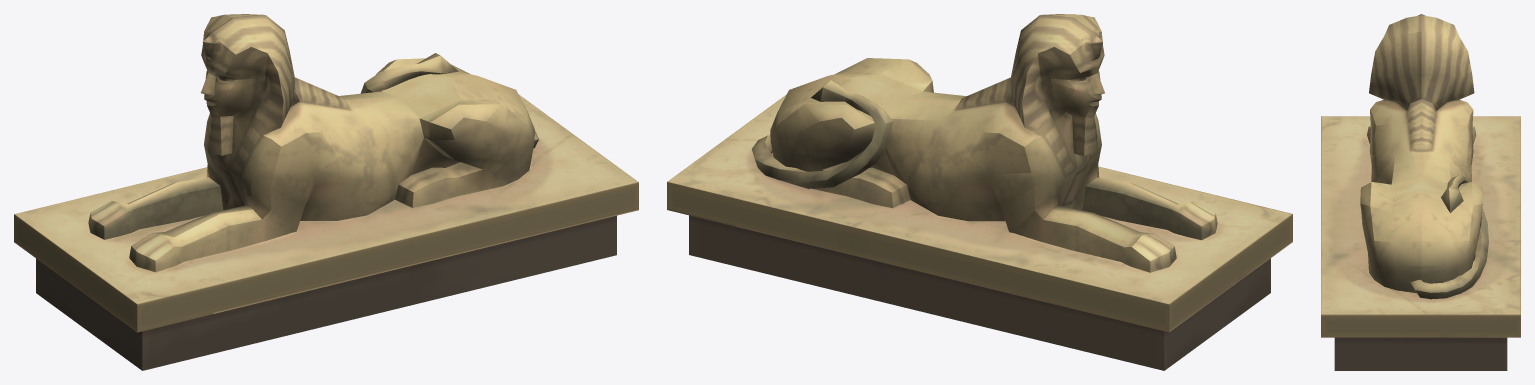
The model's file is Louvre_Sphinx.fbx.
The picture shows the model from 3 angles, left to right: view 1: azimuth 30°, elevation 25°; view 2: azimuth 150°, elevation 25°; view 3: azimuth 270°, elevation 25°; orthographic projection. The views are drawn at different scales.
Visible parts, largest first — view 1: Obstacle_Sphinx; view 2: Obstacle_Sphinx; view 3: Obstacle_Sphinx.
Boxes of the visible parts, <box> form: Obstacle_Sphinx: <box>14,14,638,370</box>; Obstacle_Sphinx: <box>667,14,1292,370</box>; Obstacle_Sphinx: <box>1321,14,1520,370</box>.
Bounding box in the file's own units: 1707 × 904 × 727.
